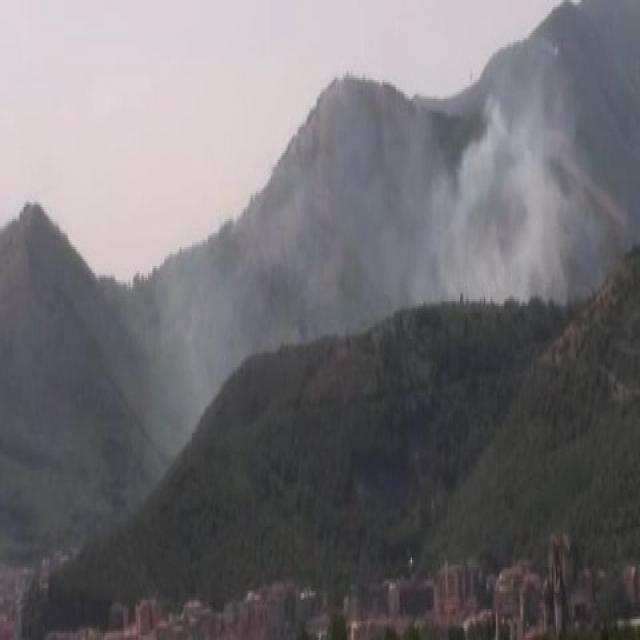smoke: (381, 87, 584, 301)
